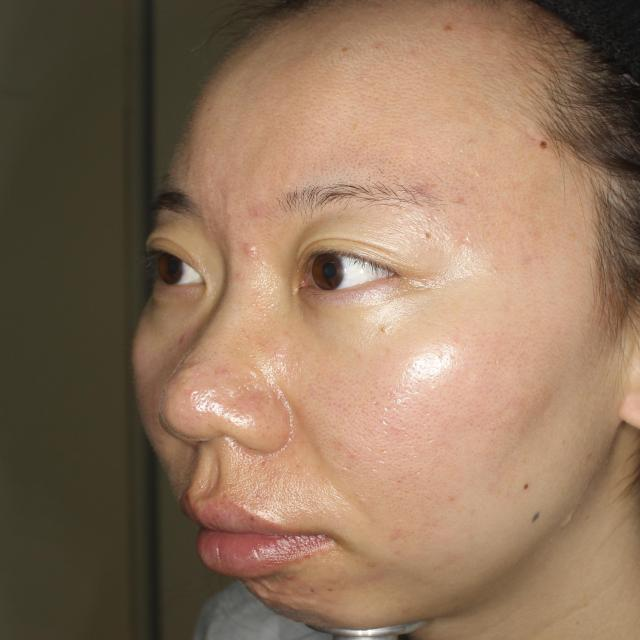acne: (237, 236, 260, 261), (251, 580, 278, 600)
